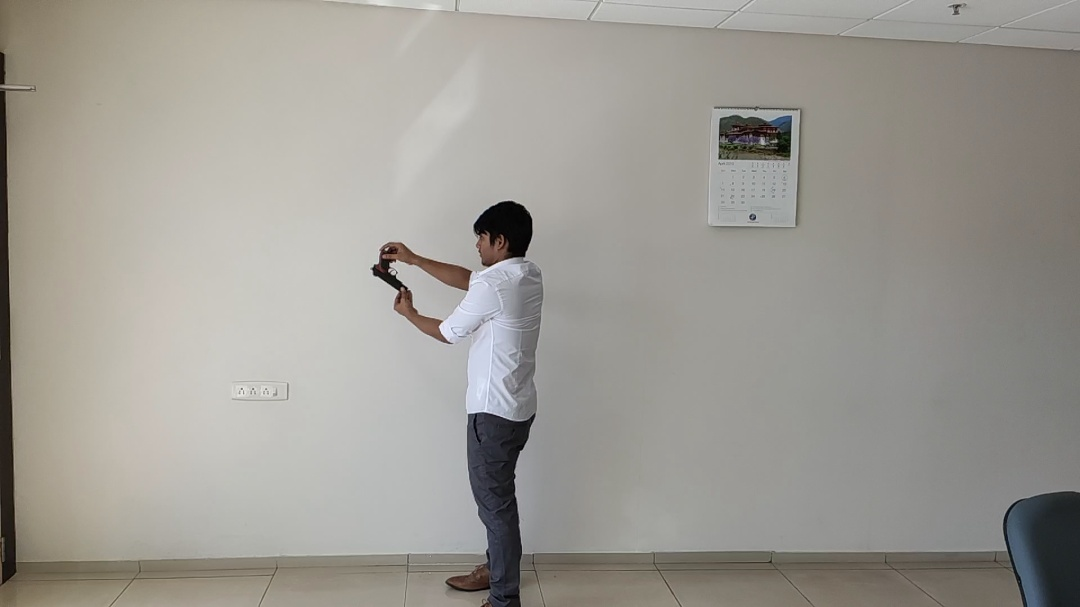gun: (271, 56, 563, 568)
